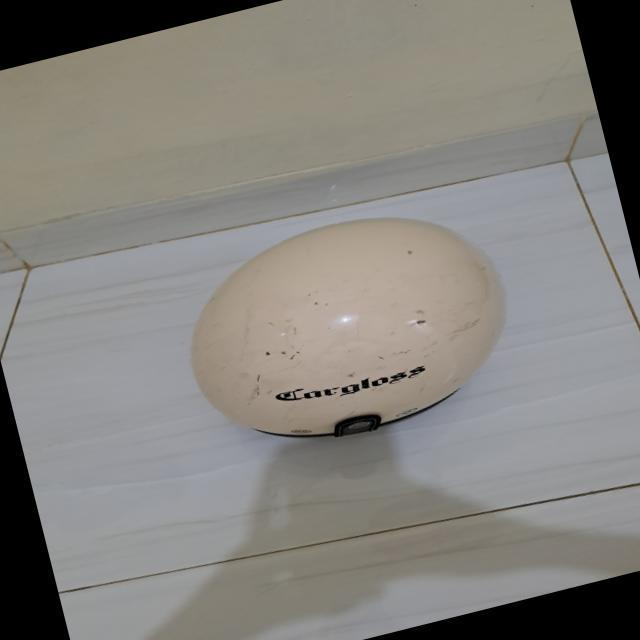Helm: (155, 177, 540, 482)
